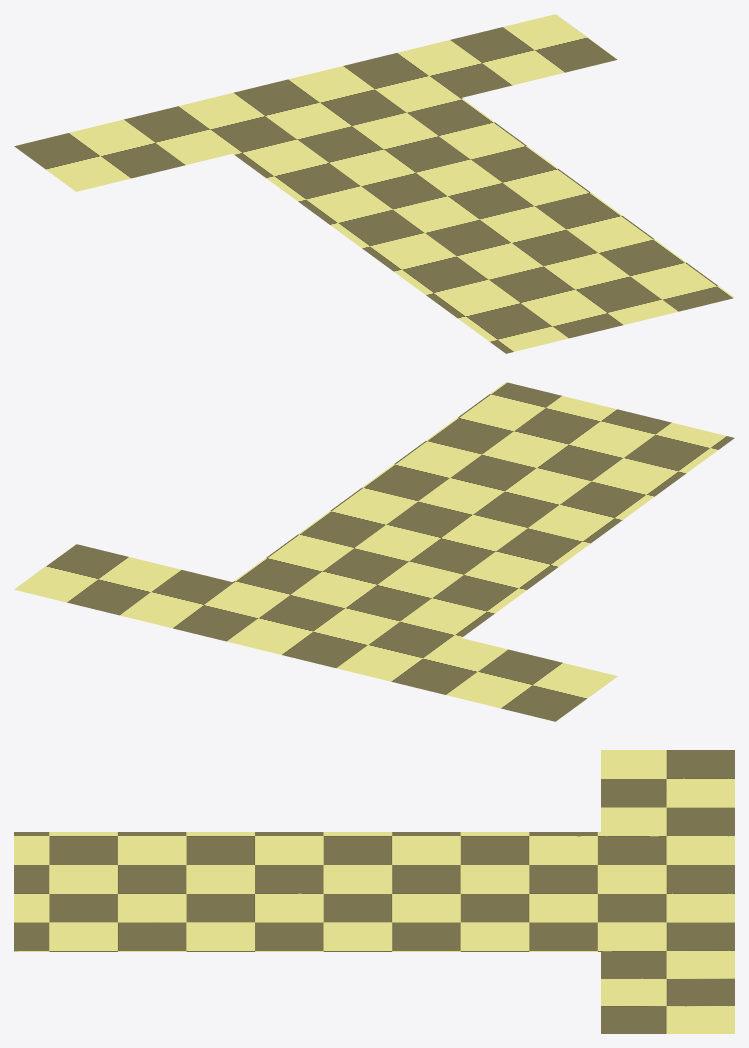
File: floor_0.FBX
3 views of the same model, one above another, from view 1: azimuth 30°, elevation 25°; view 2: azimuth 150°, elevation 25°; view 3: azimuth 270°, elevation 25° (orthographic). The views are drawn at different scales.
Visible parts, largest first — view 1: Mesh_0003; view 2: Mesh_0003; view 3: Mesh_0003.
Boxes of the visible parts, box(x1,y1,x2,y2) form: Mesh_0003: box(14, 14, 734, 353); Mesh_0003: box(14, 382, 734, 721); Mesh_0003: box(14, 750, 734, 1033).
Size of the model in its own units: 3850 by 0.000864 by 4133.
